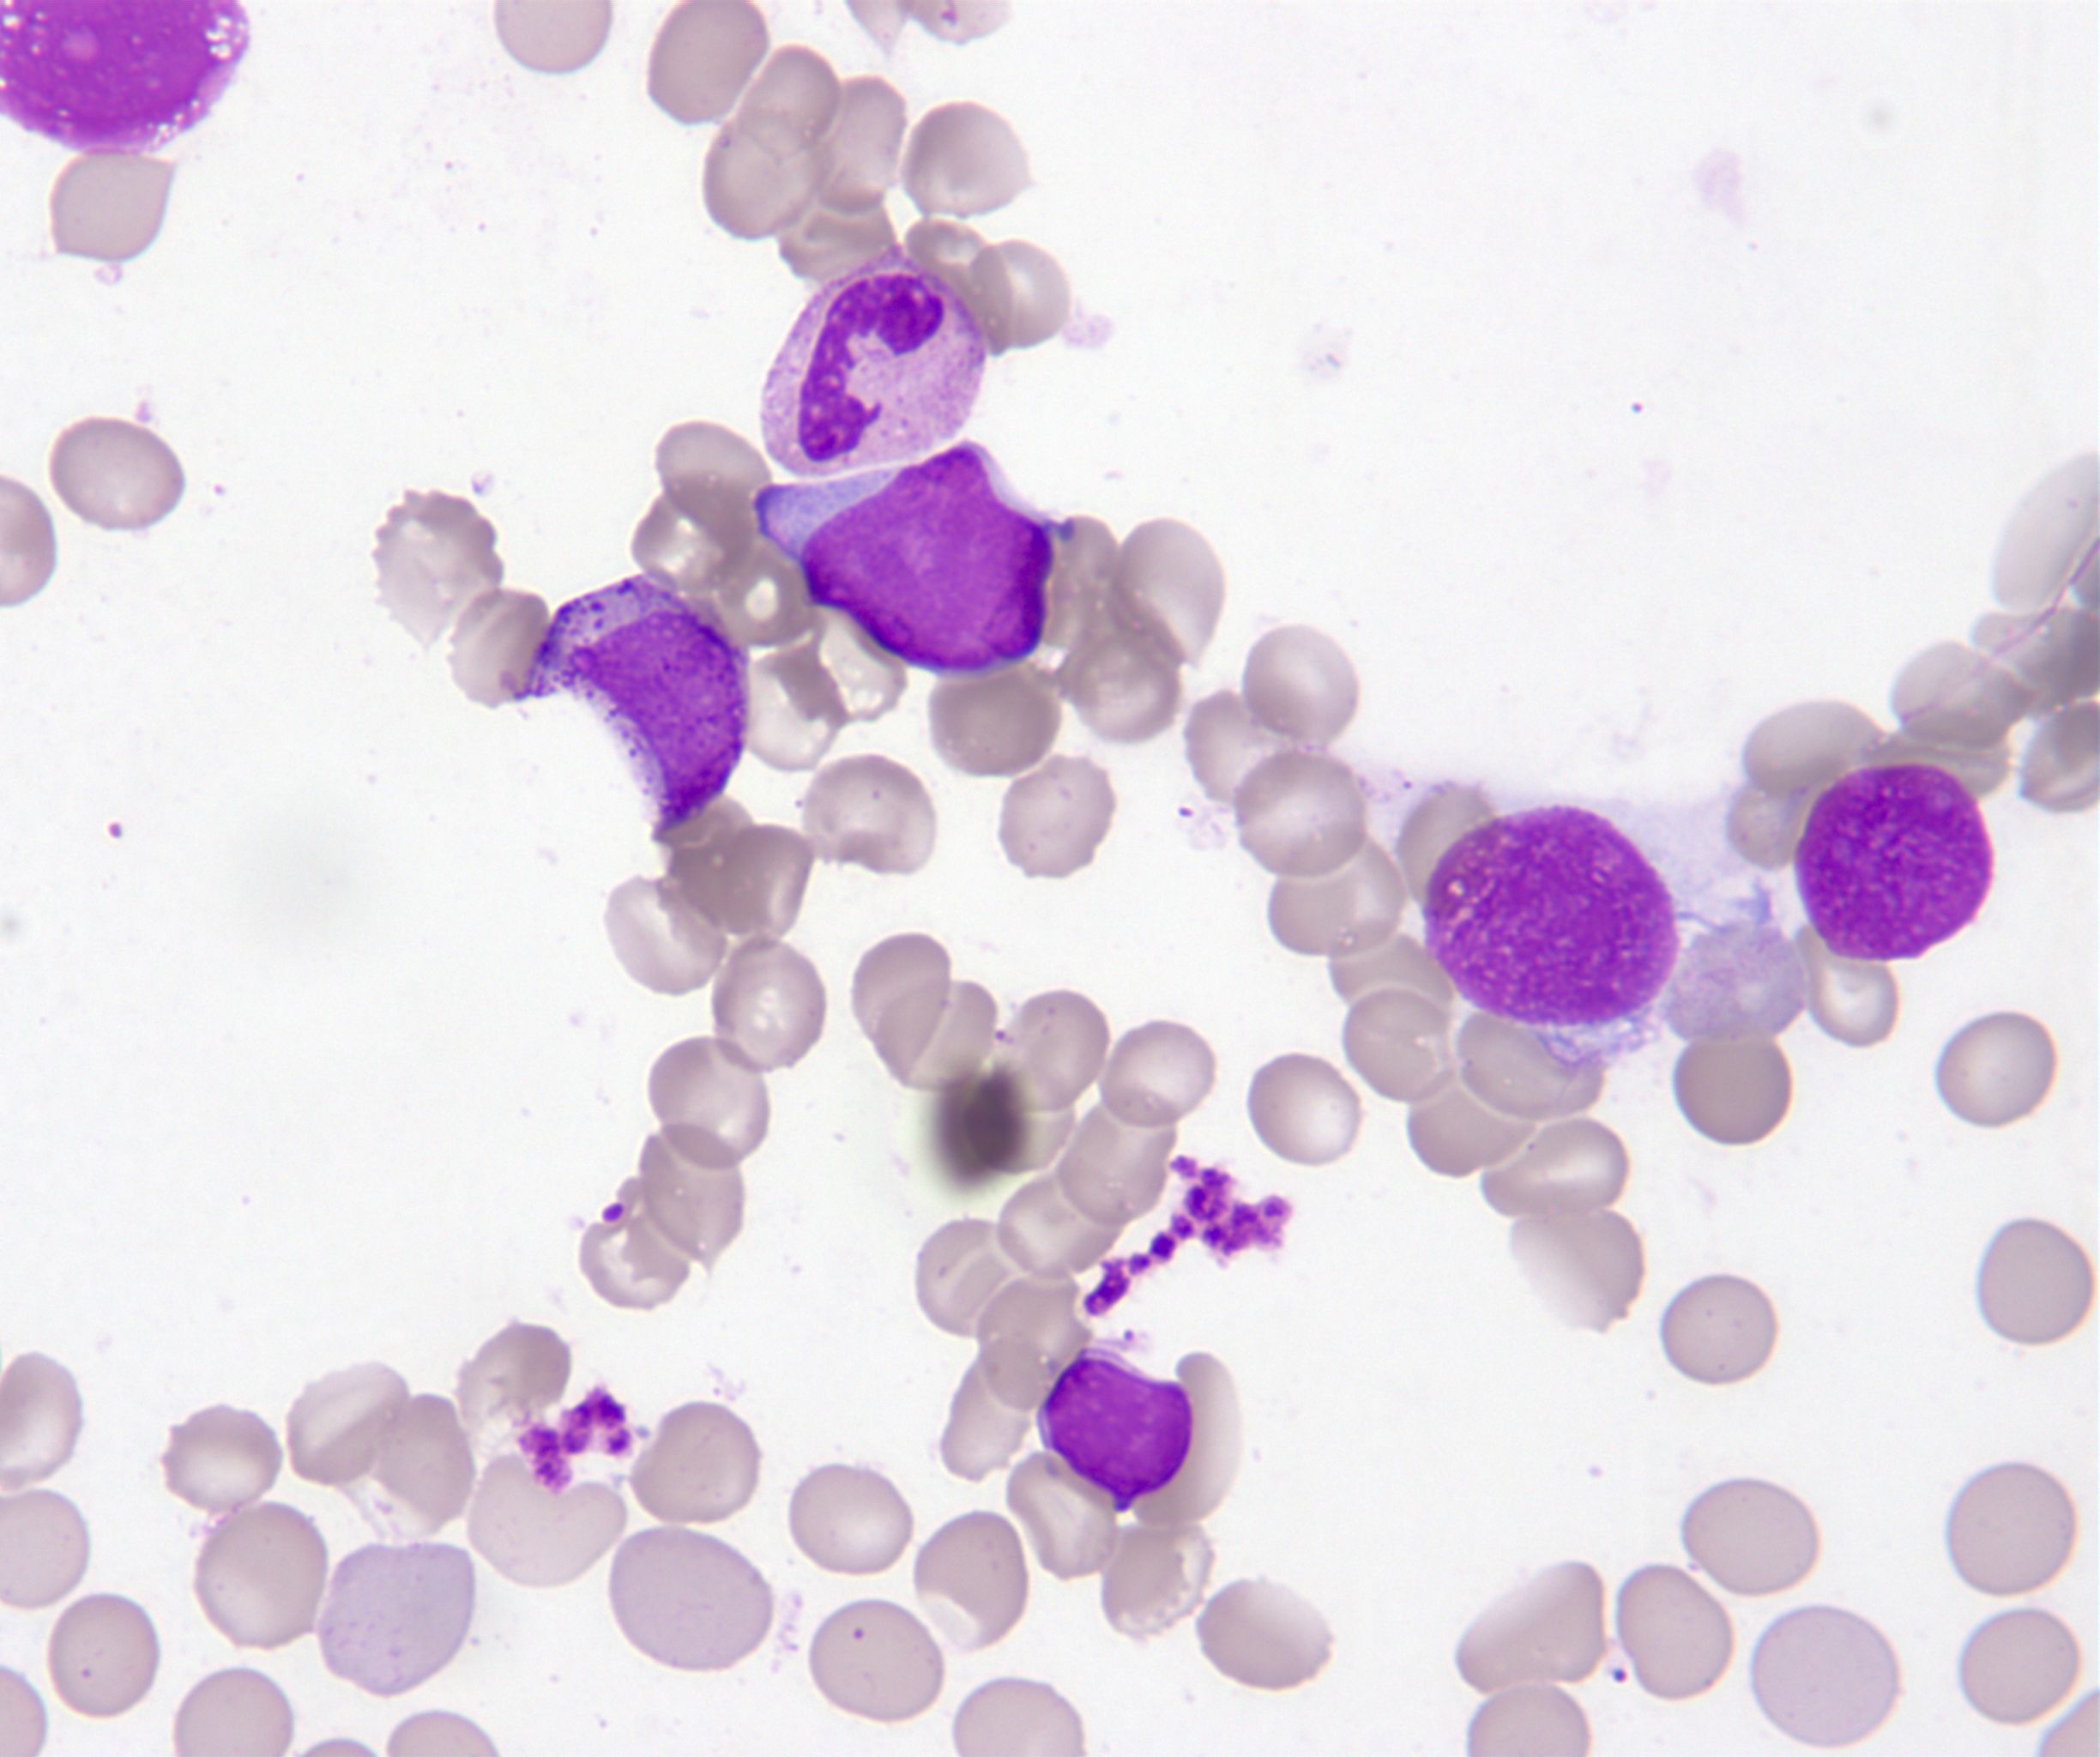1: (745, 431, 1071, 679)
3: (513, 569, 757, 844)
32: (1027, 1349, 1195, 1518)
5: (755, 230, 994, 482)
x: (1416, 796, 1690, 1033), (1786, 761, 2004, 968)
